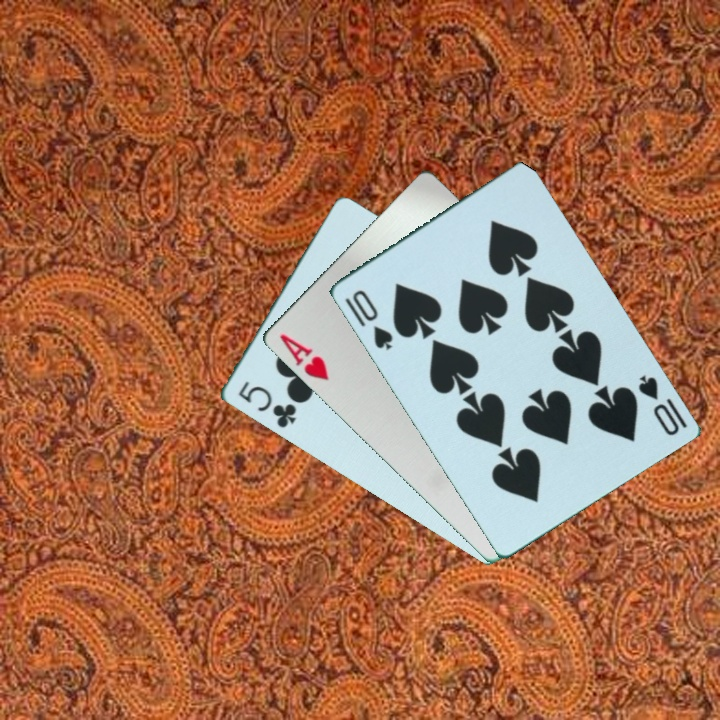10s: (634, 371, 689, 439), (340, 286, 395, 352)
5c: (233, 377, 299, 431)
Ah: (275, 330, 331, 384)
